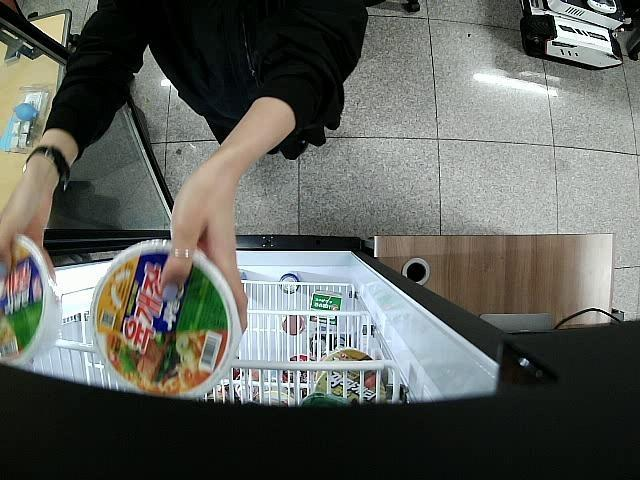09_yukGaeJang: (88, 241, 238, 400), (0, 238, 61, 363)
